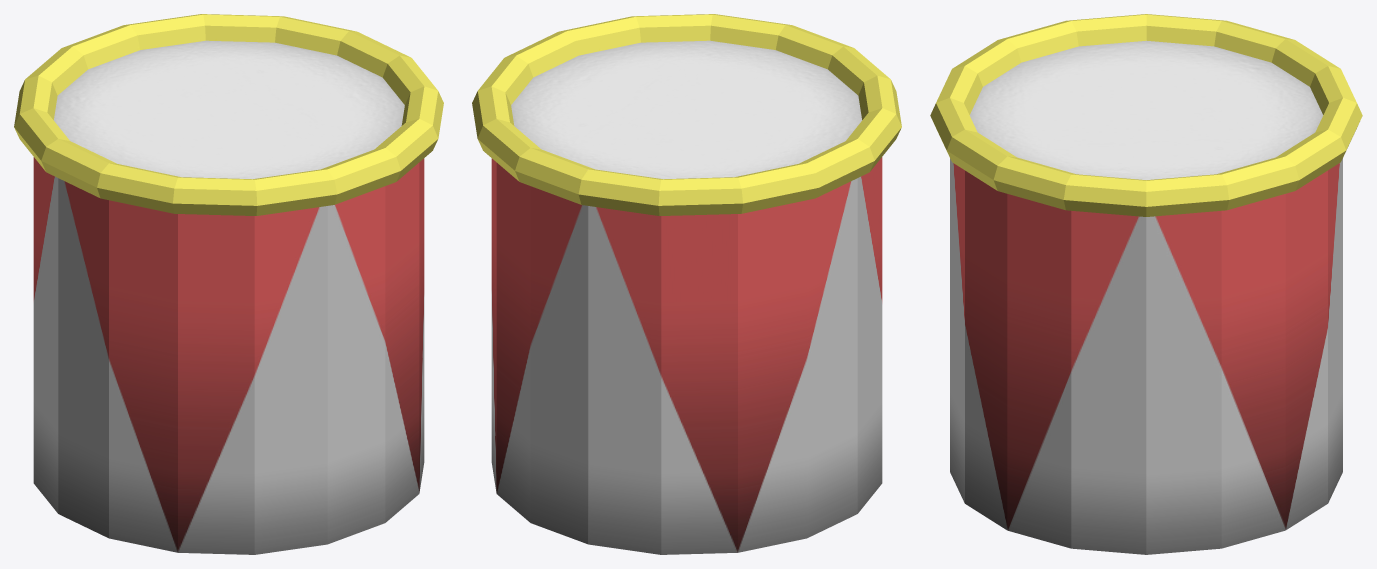
File: Circus_Stand_1-1.fbx
The picture shows the model from 3 angles, left to right: view 1: azimuth 30°, elevation 25°; view 2: azimuth 150°, elevation 25°; view 3: azimuth 270°, elevation 25°; orthographic projection.
Parts seen in each view (by area): view 1: Circus_Stand_1-1; view 2: Circus_Stand_1-1; view 3: Circus_Stand_1-1.
Part boxes in pixels (box(x1,y1,x2,y2)): Circus_Stand_1-1: box(14, 14, 443, 554); Circus_Stand_1-1: box(472, 14, 901, 554); Circus_Stand_1-1: box(930, 14, 1362, 554).
Bounding box in the file's own units: 110 × 105 × 110.
2 materials, 2 textured.
